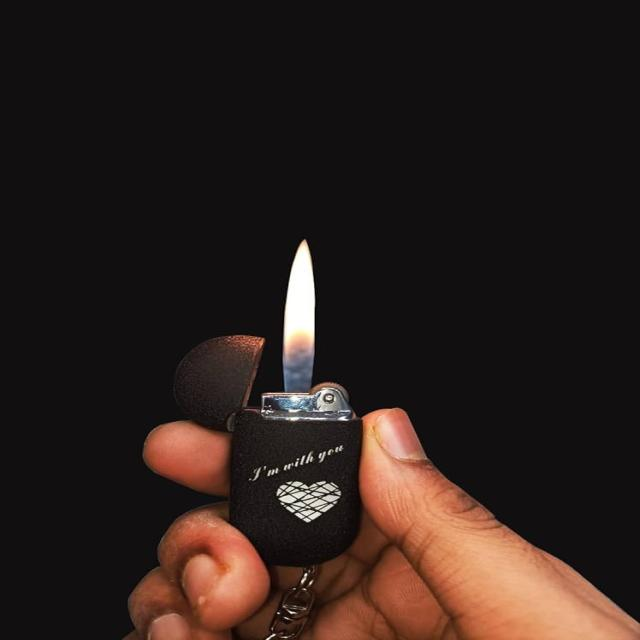fire: (282, 239, 318, 393)
